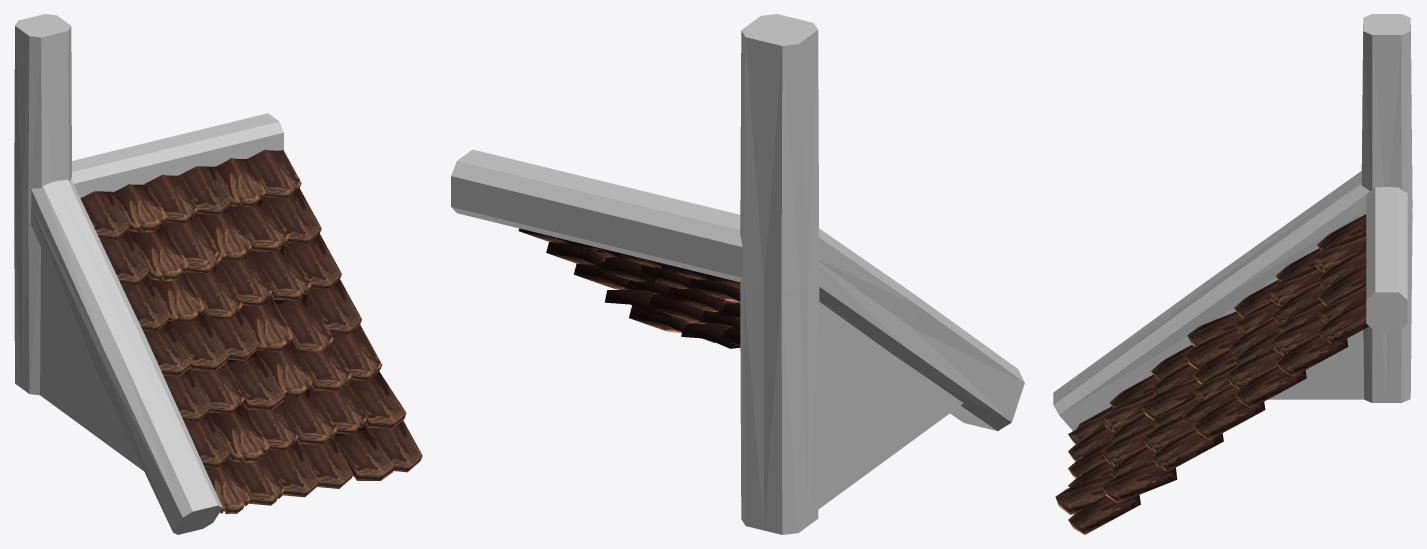
File: VV-RoofTile4.fbx
The picture shows the model from 3 angles, left to right: view 1: azimuth 30°, elevation 25°; view 2: azimuth 150°, elevation 25°; view 3: azimuth 270°, elevation 25°; orthographic projection. The views are drawn at different scales.
Visible parts, largest first — view 1: RoofTile.4; view 2: RoofTile.4; view 3: RoofTile.4.
Boxes of the visible parts, x1,y1,x2,y2 form: RoofTile.4: (14, 14, 422, 534); RoofTile.4: (451, 14, 1024, 534); RoofTile.4: (1053, 14, 1412, 534).
Size of the model in its own units: 2.21 by 3.34 by 2.65.
